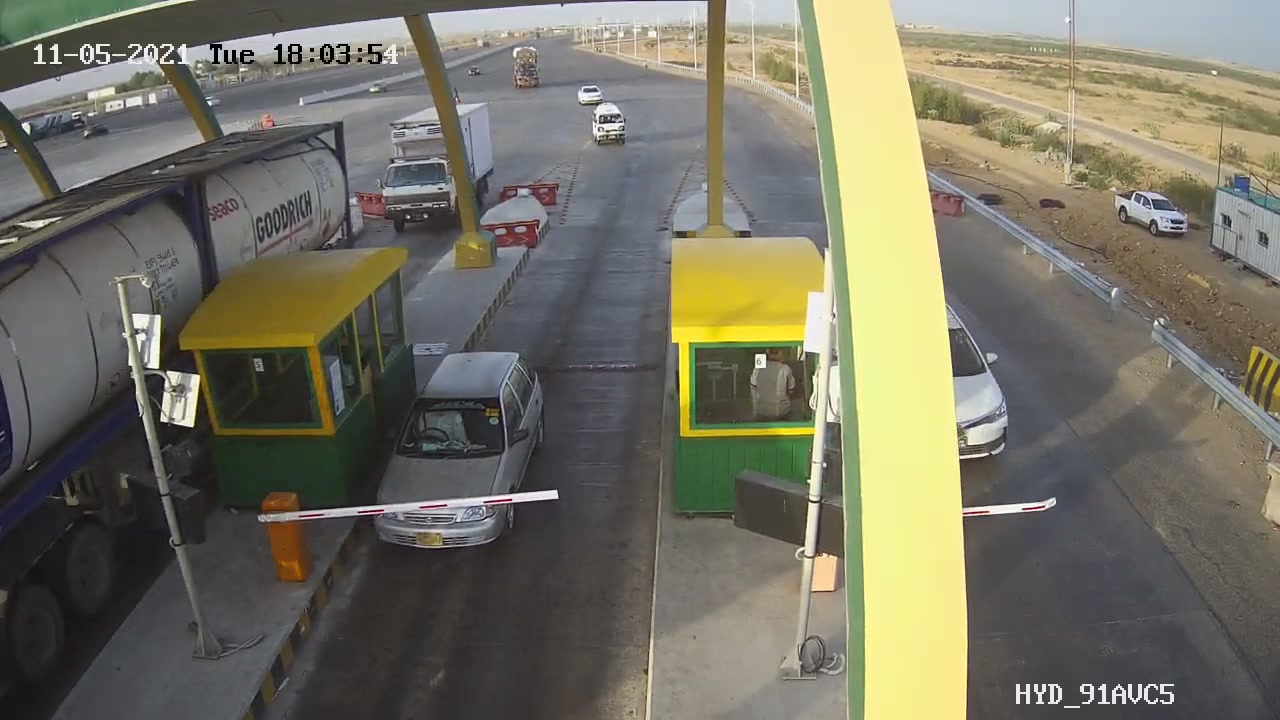F1: (359, 333, 565, 562)
